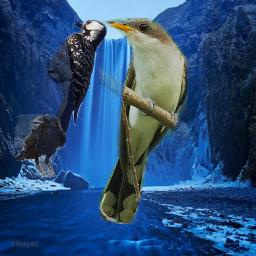Crow: (15, 114, 66, 177)
Cuckoo: (99, 18, 189, 224)
Woodpecker: (44, 13, 107, 152)
